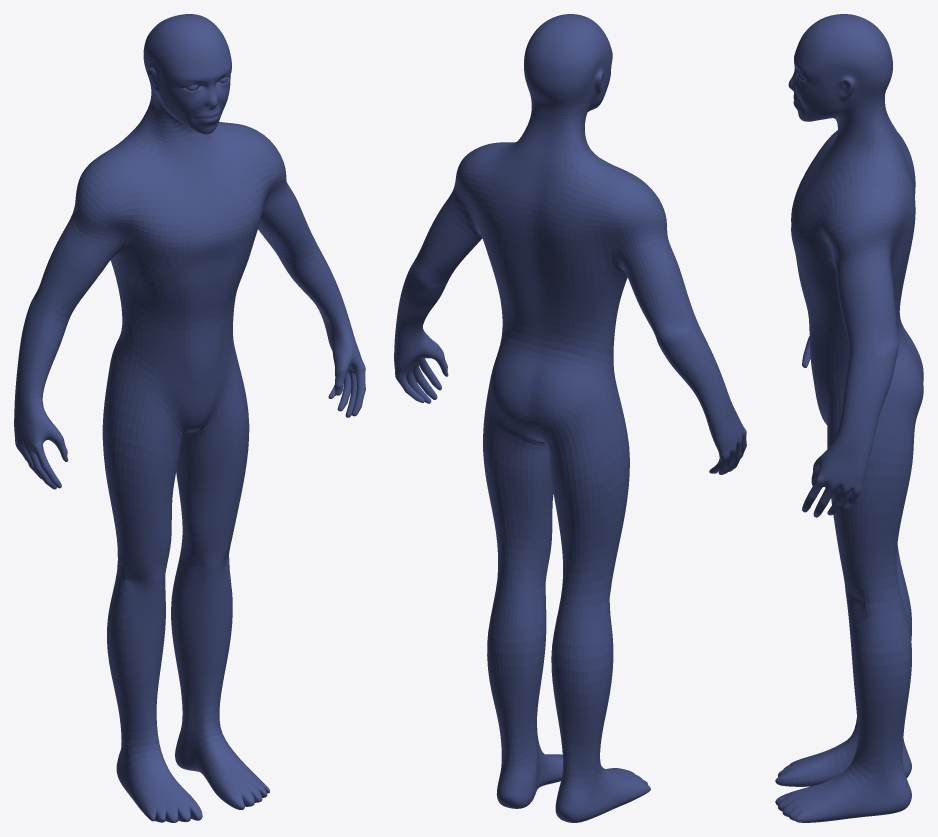
The model's file is Male_LowPoly.fbx.
The picture shows the model from 3 angles, left to right: view 1: azimuth 30°, elevation 25°; view 2: azimuth 150°, elevation 25°; view 3: azimuth 270°, elevation 25°; orthographic projection.
Visible parts, largest first — view 1: Plane; view 2: Plane; view 3: Plane.
Part boxes in pixels (box(x1,y1,x2,y2)): Plane: box(14, 14, 365, 822); Plane: box(394, 14, 746, 822); Plane: box(775, 14, 923, 822).
Size of the model in its own units: 81.11 by 179 by 30.88.
